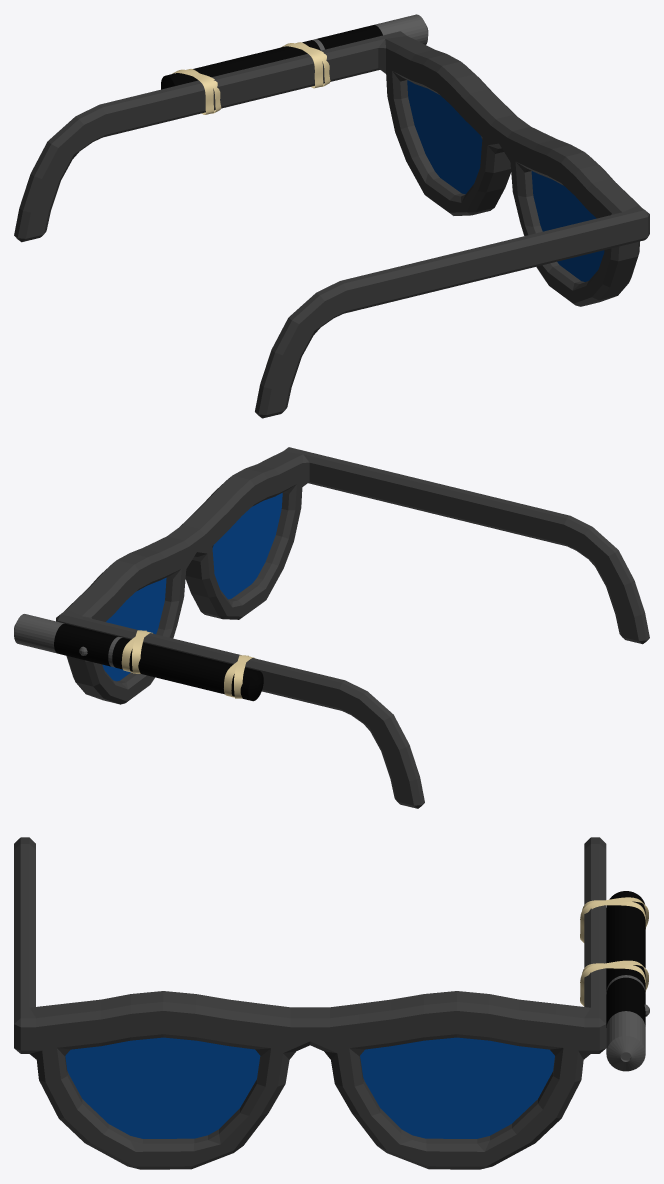
File: brilLazer.fbx
3 views of the same model, one above another, from view 1: azimuth 30°, elevation 25°; view 2: azimuth 150°, elevation 25°; view 3: azimuth 270°, elevation 25° (orthographic). The views are drawn at different scales.
Parts seen in each view (by area): view 1: bril.001; view 2: bril.001; view 3: bril.001.
Part boxes in pixels (x1=…): bril.001: x1=14, y1=14, x2=649, y2=418; bril.001: x1=14, y1=447, x2=649, y2=808; bril.001: x1=14, y1=837, x2=649, y2=1169.
Size of the model in its own units: 2942 by 941 by 3234.
